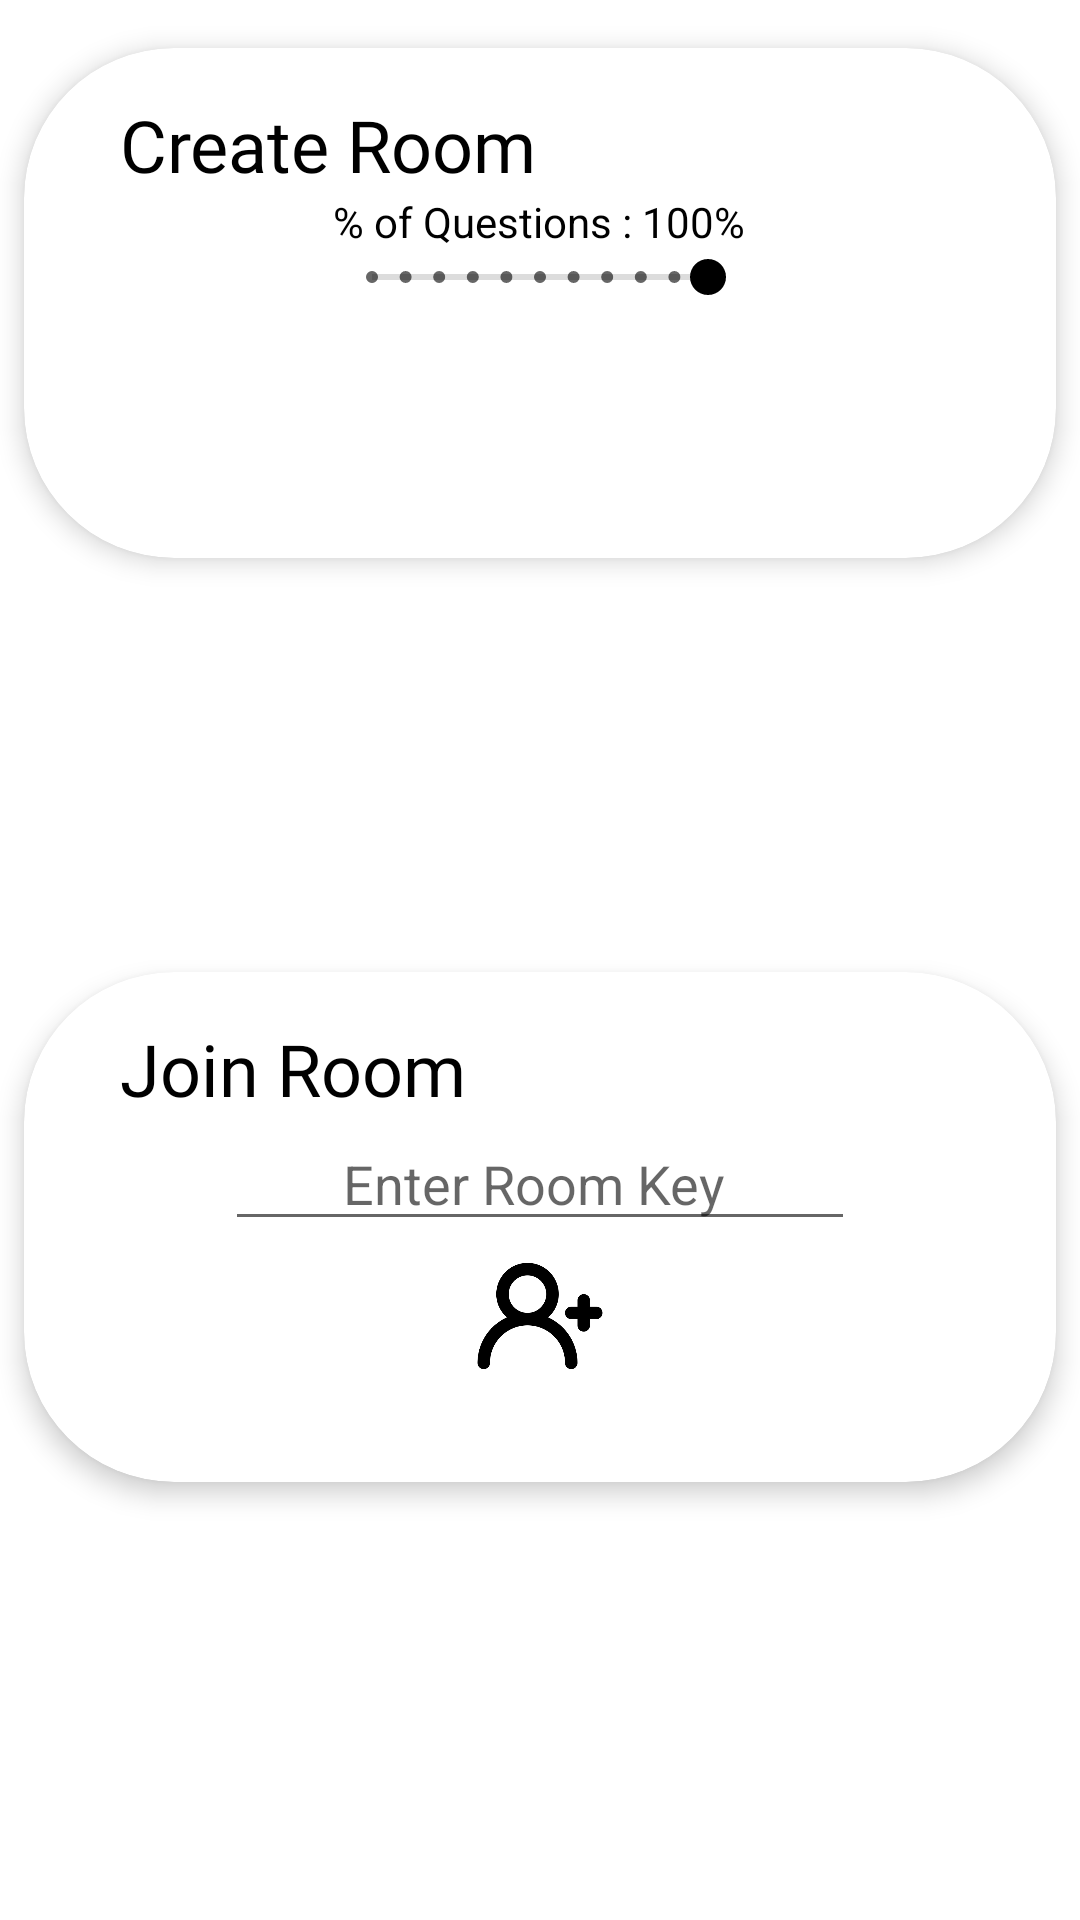

Named icons in this screenshot (1080w x 1920h) and their centers, (x=x, y=y):
addaccount: (x=540, y=1316)
